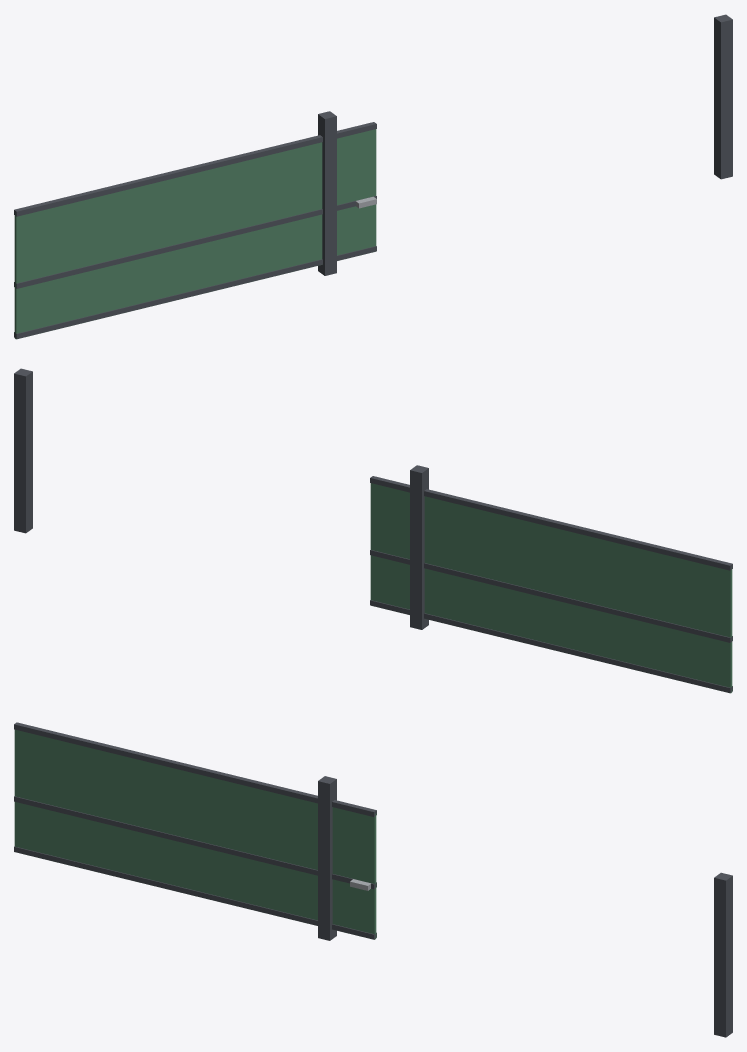
Rendered from site_gate.glb.
The picture shows the model from 3 angles, top to bottom: view 1: azimuth 30°, elevation 25°; view 2: azimuth 150°, elevation 25°; view 3: azimuth 330°, elevation 25°; orthographic projection.
Parts seen in each view (by area): view 1: sheet, gate_post.001, gate_rail.002, gate_post, gate_rail, gate_rail.001; view 2: sheet, gate_post.001, gate_rail.002, gate_post, gate_rail, gate_rail.001; view 3: sheet, gate_post.001, gate_rail.002, gate_post, gate_rail, gate_rail.001.
Part boxes in pixels (bbox=[...]): sheet: bbox=[14, 129, 376, 339]; gate_post.001: bbox=[714, 14, 732, 179]; gate_rail.002: bbox=[14, 122, 376, 216]; gate_post: bbox=[318, 111, 336, 275]; gate_rail: bbox=[14, 246, 376, 338]; gate_rail.001: bbox=[14, 196, 376, 288]; sheet: bbox=[370, 483, 732, 693]; gate_post.001: bbox=[14, 368, 32, 533]; gate_rail.002: bbox=[370, 476, 732, 570]; gate_post: bbox=[410, 465, 428, 629]; gate_rail: bbox=[370, 600, 732, 692]; gate_rail.001: bbox=[370, 550, 732, 642]; sheet: bbox=[14, 729, 376, 939]; gate_post.001: bbox=[714, 872, 732, 1037]; gate_rail.002: bbox=[14, 722, 376, 816]; gate_post: bbox=[318, 776, 336, 940]; gate_rail: bbox=[14, 846, 376, 939]; gate_rail.001: bbox=[14, 796, 376, 889].
Size of what is drawn, in the model's own units: 11.9 by 2.5 by 0.23.
